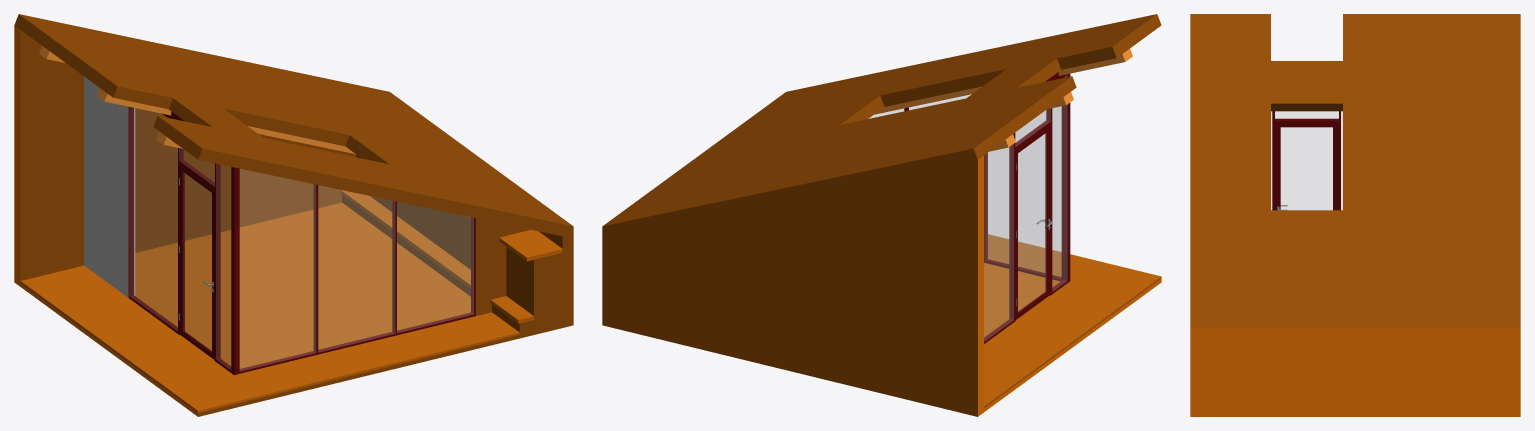
Rendered from Перегородка.obj.
3 views of the same model, side by side, from view 1: azimuth 30°, elevation 25°; view 2: azimuth 150°, elevation 25°; view 3: azimuth 270°, elevation 25° (orthographic). The views are drawn at different scales.
Bounding box in the file's own units: 5.27 × 3.56 × 4.43.
